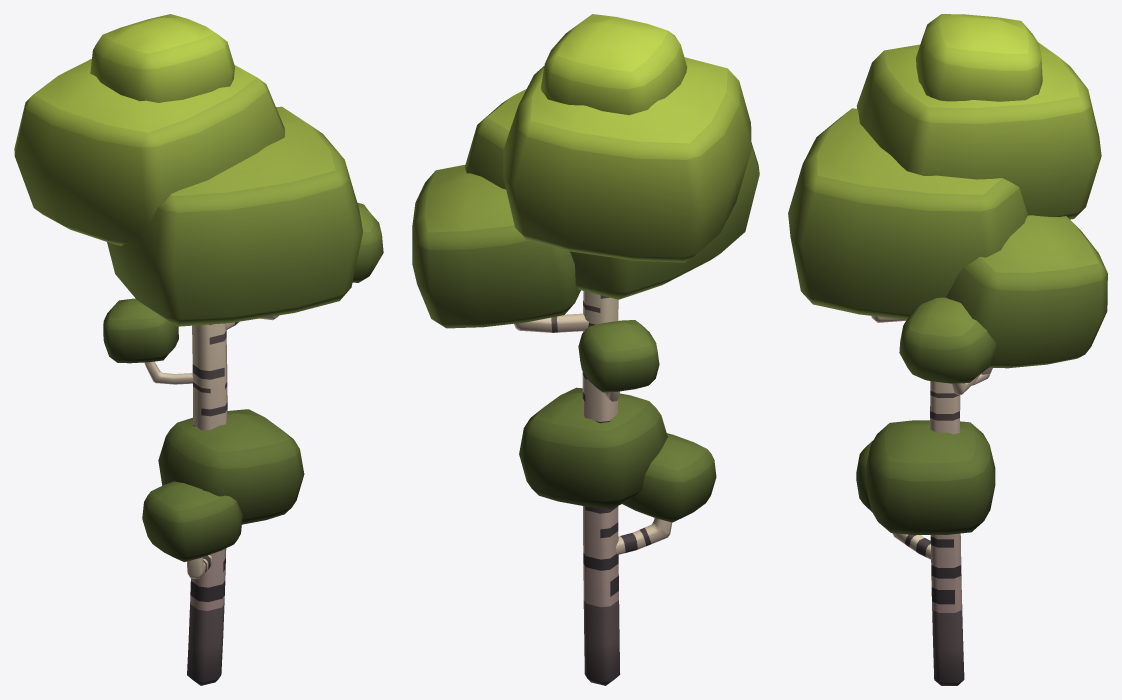
File: birch_tree_col1_02.fbx
3 renders of one model, left to right at view 1: azimuth 30°, elevation 25°; view 2: azimuth 150°, elevation 25°; view 3: azimuth 270°, elevation 25°, orthographic. The views are drawn at different scales.
Parts seen in each view (by area): view 1: birch_tree_SC_col1_02; view 2: birch_tree_SC_col1_02; view 3: birch_tree_SC_col1_02.
Part boxes in pixels (left/top/right/bottom): birch_tree_SC_col1_02: left=14, top=14, right=383, bottom=685; birch_tree_SC_col1_02: left=412, top=14, right=759, bottom=685; birch_tree_SC_col1_02: left=788, top=14, right=1107, bottom=685.
Size of the model in its own units: 612 by 1187 by 533.
